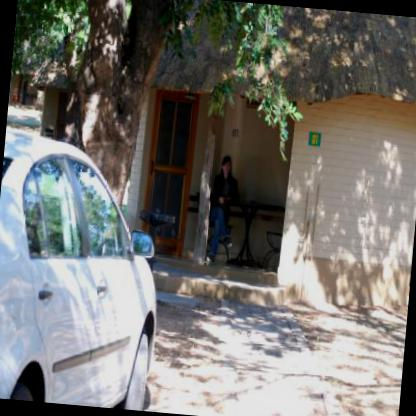car: (0, 126, 175, 412)
